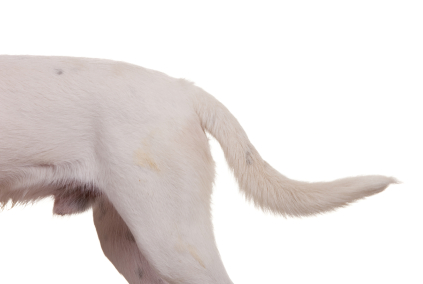tail: (191, 74, 402, 234)
